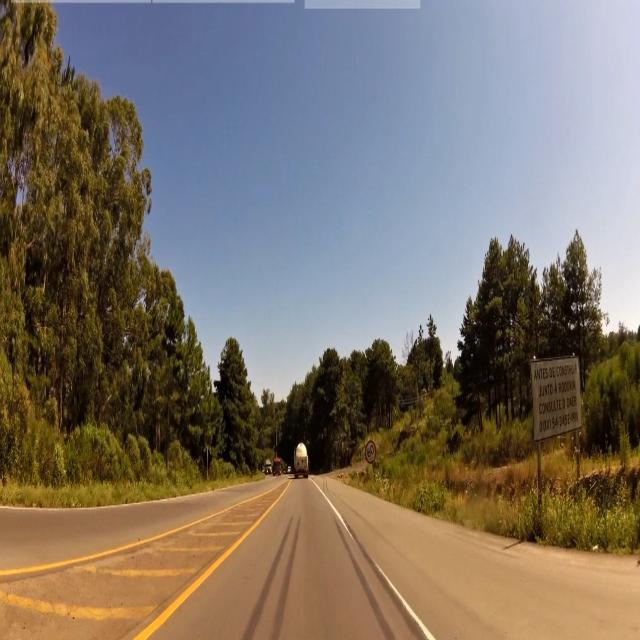E-5: (532, 359, 579, 431)
R-19: (365, 441, 376, 464)
